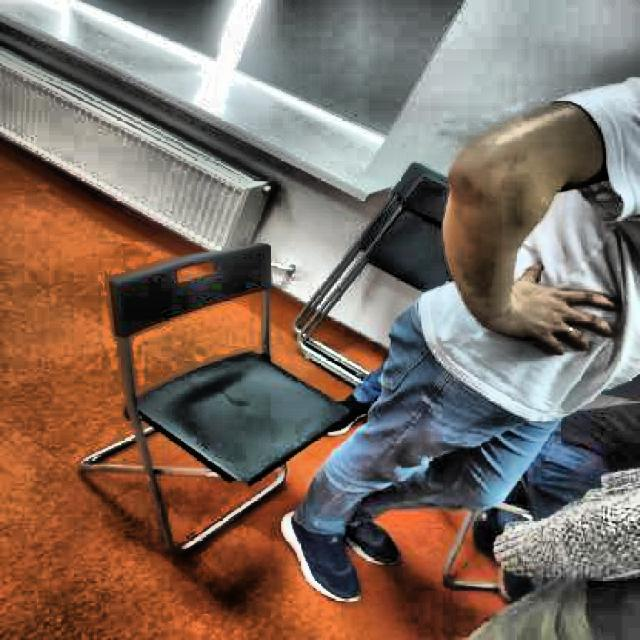cadeira: (61, 231, 352, 566)
